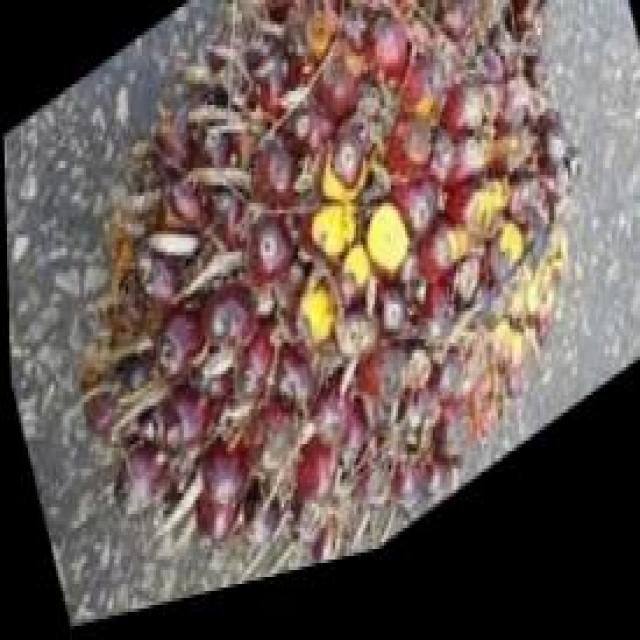Ripefruit: (14, 0, 626, 637)
